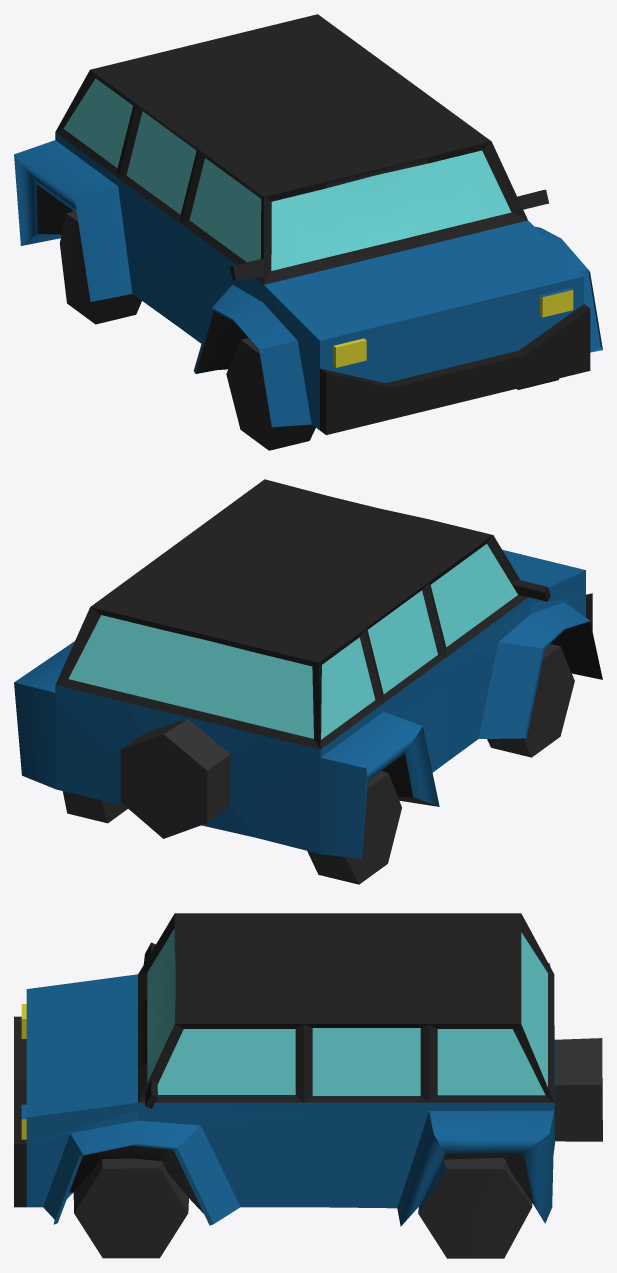
The model's file is carBlueJeep.fbx.
3 views of the same model, one above another, from view 1: azimuth 30°, elevation 25°; view 2: azimuth 150°, elevation 25°; view 3: azimuth 270°, elevation 25° (orthographic).
Visible parts, largest first — view 1: pCube11; view 2: pCube11; view 3: pCube11.
Part boxes in pixels (left/top/right/bottom): pCube11: left=14, top=14, right=602, bottom=450; pCube11: left=14, top=479, right=602, bottom=884; pCube11: left=14, top=913, right=602, bottom=1258.
Bounding box in the file's own units: 137 × 82.18 × 200.
